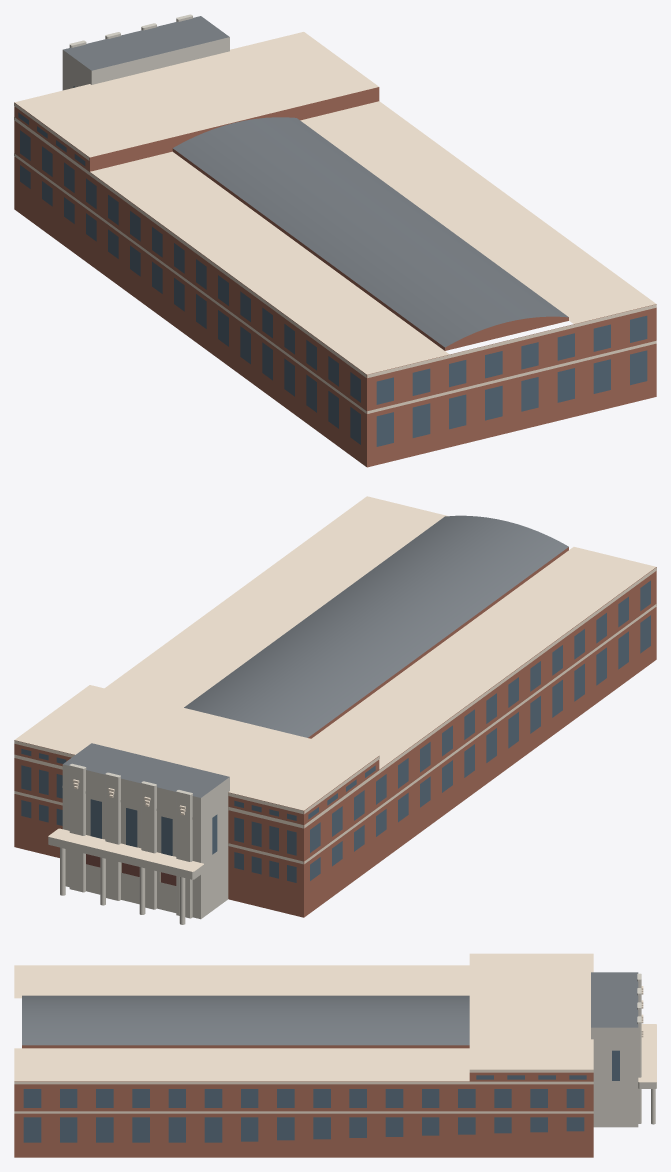
Rendered from ral-reynolds-coliseum.glb.
The picture shows the model from 3 angles, top to bottom: view 1: azimuth 30°, elevation 25°; view 2: azimuth 150°, elevation 25°; view 3: azimuth 270°, elevation 25°; orthographic projection. The views are drawn at different scales.
Parts seen in each view (by area): view 1: Reynolds Coliseum; view 2: Reynolds Coliseum; view 3: Reynolds Coliseum.
Boxes of the visible parts, bbox=[...] form: Reynolds Coliseum: bbox=[14, 14, 656, 467]; Reynolds Coliseum: bbox=[14, 496, 656, 924]; Reynolds Coliseum: bbox=[14, 953, 656, 1157].
Size of the model in its own units: 53.36 by 21.7 by 125.
